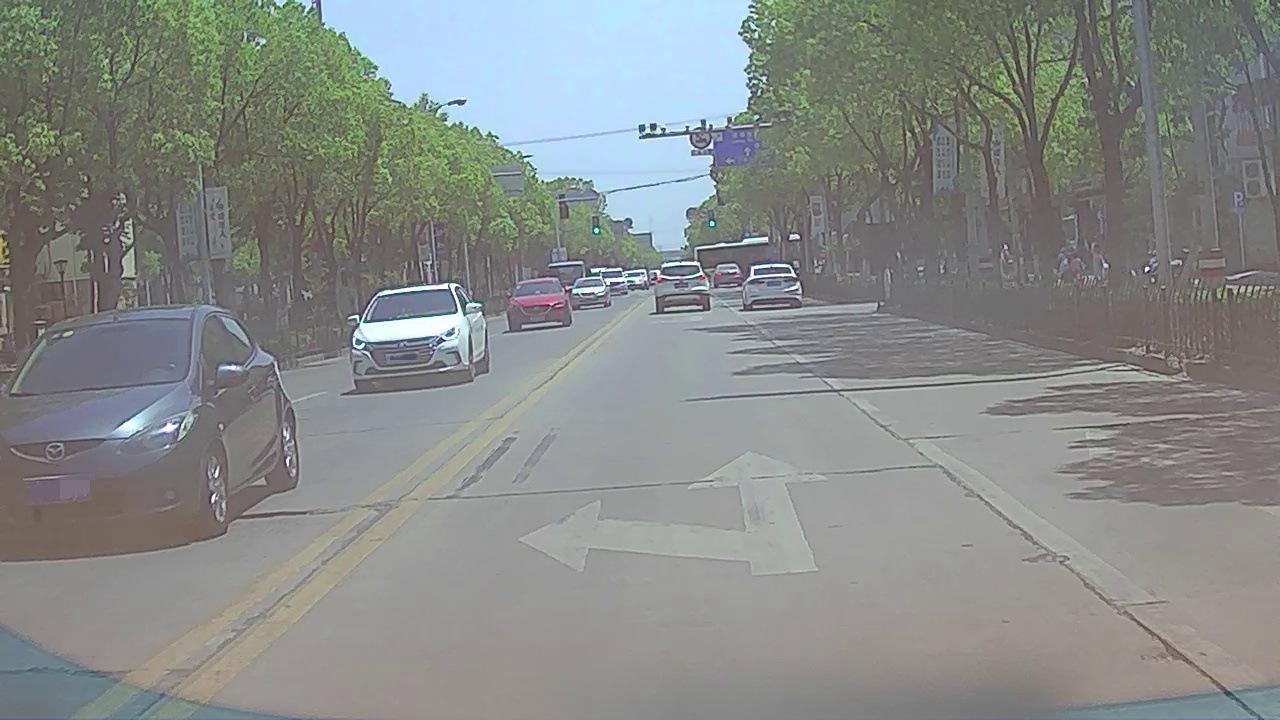traffic_light: (590, 216, 601, 235), (706, 210, 716, 228)
